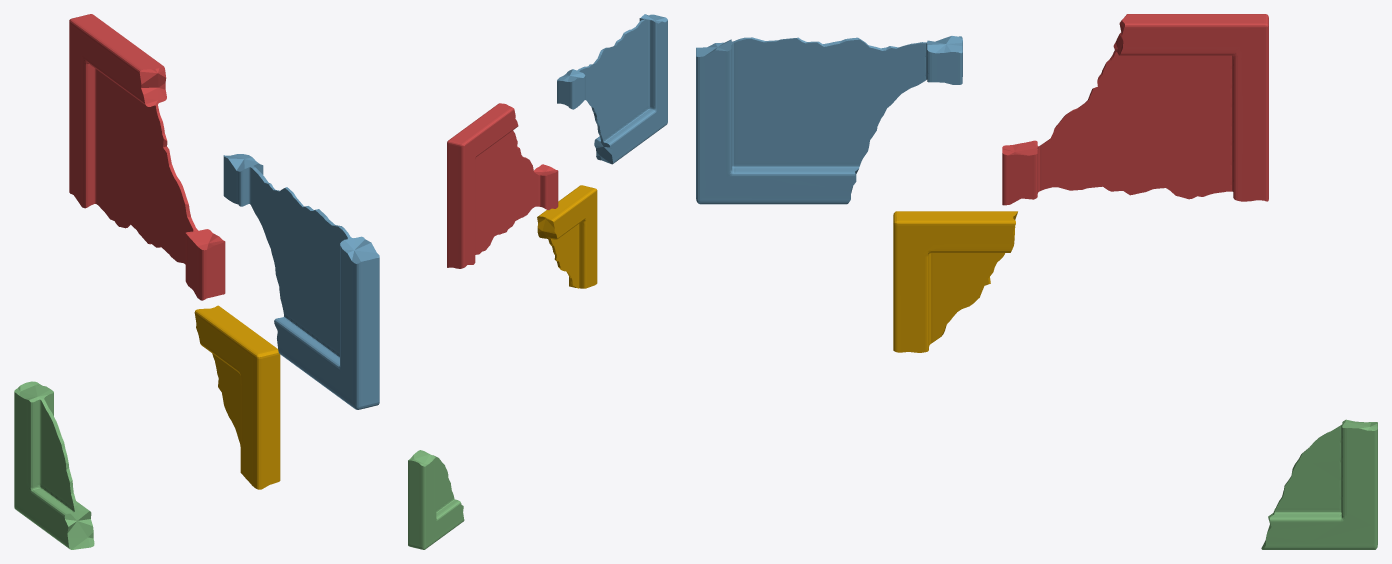
Rendered from fractured_50_4pcs_transformed.glb.
The picture shows the model from 3 angles, left to right: view 1: azimuth 30°, elevation 25°; view 2: azimuth 150°, elevation 25°; view 3: azimuth 270°, elevation 25°; orthographic projection. The views are drawn at different scales.
Visible parts, largest first — view 1: piece_1.obj, piece_2.obj, piece_0.obj, piece_3.obj; view 2: piece_1.obj, piece_2.obj, piece_0.obj, piece_3.obj; view 3: piece_1.obj, piece_2.obj, piece_0.obj, piece_3.obj.
Part boxes in pixels (left/top/right/bottom): piece_1.obj: left=69, top=14, right=225, bottom=300; piece_2.obj: left=223, top=154, right=379, bottom=409; piece_0.obj: left=194, top=305, right=280, bottom=489; piece_3.obj: left=14, top=381, right=94, bottom=549; piece_1.obj: left=447, top=103, right=558, bottom=268; piece_2.obj: left=557, top=14, right=667, bottom=164; piece_0.obj: left=537, top=185, right=597, bottom=288; piece_3.obj: left=408, top=450, right=464, bottom=549; piece_1.obj: left=1002, top=14, right=1268, bottom=205; piece_2.obj: left=696, top=36, right=962, bottom=204; piece_0.obj: left=893, top=211, right=1017, bottom=352; piece_3.obj: left=1261, top=419, right=1377, bottom=549.
Bounding box in the file's own units: 0.0765 × 1.6 × 1.88.
